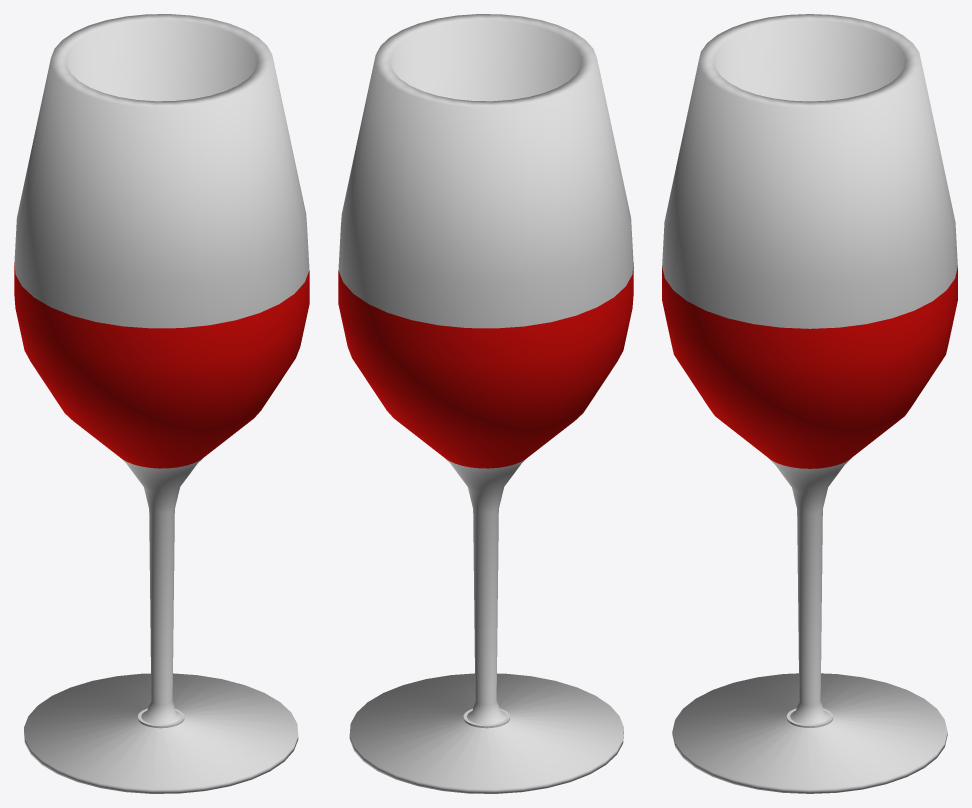
The model's file is wine.fbx.
The picture shows the model from 3 angles, left to right: view 1: azimuth 30°, elevation 25°; view 2: azimuth 150°, elevation 25°; view 3: azimuth 270°, elevation 25°; orthographic projection.
Visible parts, largest first — view 1: wine; view 2: wine; view 3: wine.
Boxes of the visible parts, box(x1,y1,x2,y2) form: wine: box(14, 14, 309, 793); wine: box(338, 14, 633, 793); wine: box(662, 14, 957, 793).
Bounding box in the file's own units: 14.3 × 36.01 × 14.3.
